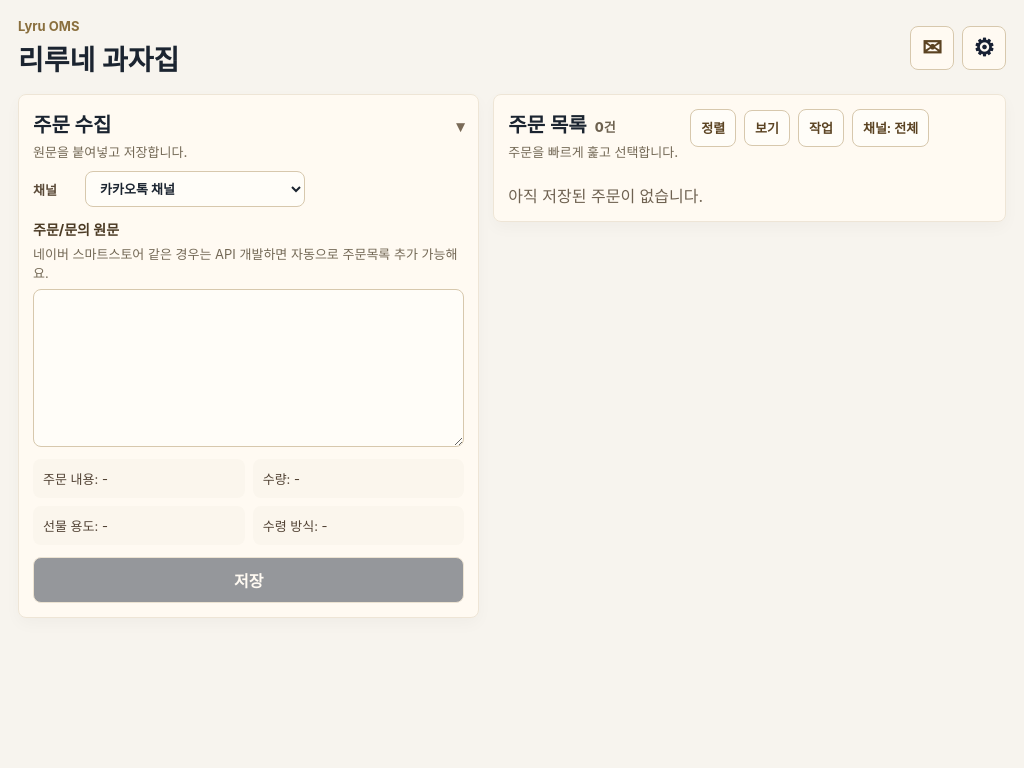
App › opens owner settings from the workspace menu
Expected: the heading "리루네 과자집" is shown, left=18, top=38, right=179, bottom=78
Click the button named "메뉴" at coordinates (984, 48), box left=962, top=26, right=1006, bottom=70
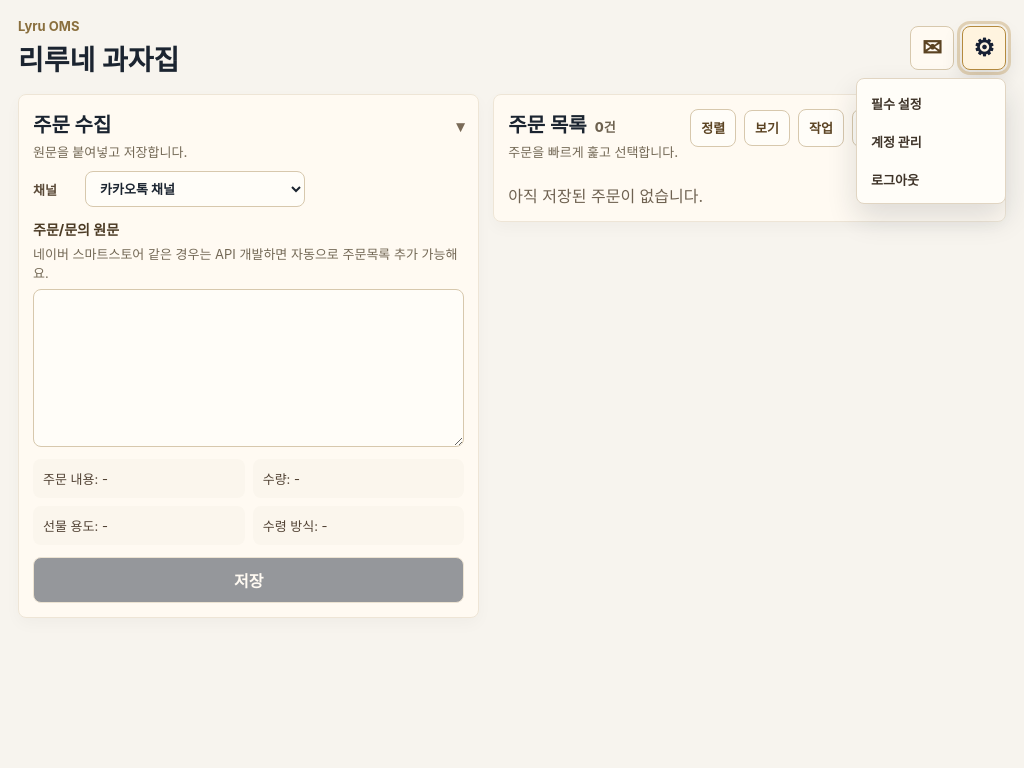
Result: the menu item "필수 설정" is shown
Result: the menu item "계정 관리" is shown at left=863, top=123, right=999, bottom=159
Result: the menu item "로그아웃" is shown at left=863, top=161, right=999, bottom=197
Click the menu item "필수 설정" at coordinates (931, 103), box left=863, top=85, right=999, bottom=121
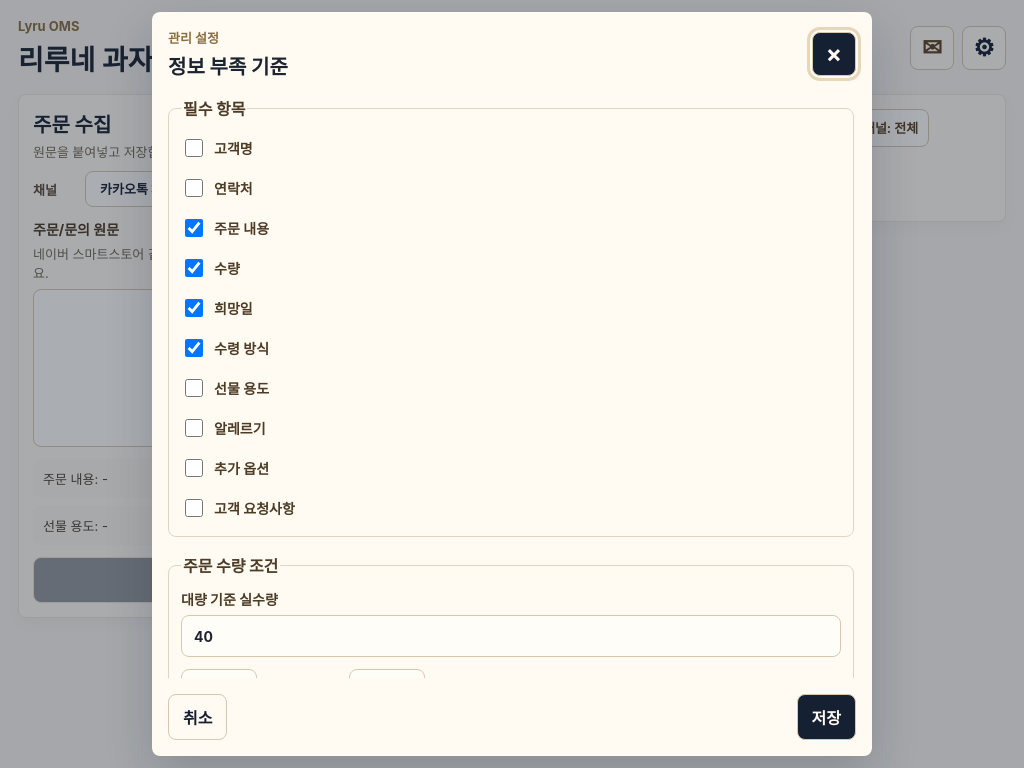
Result: the dialog "정보 부족 기준" is shown
